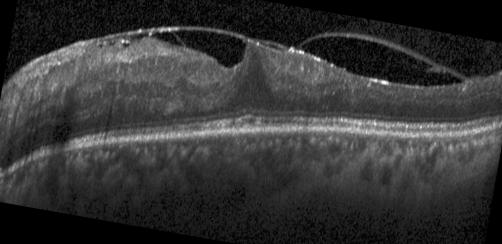intraretinal_cyst: (174, 30, 245, 67), (131, 32, 183, 45), (52, 122, 71, 142), (57, 110, 66, 118), (7, 158, 12, 164), (9, 150, 12, 153)
subretinal_fluid: (230, 53, 275, 110)
vitreomacular_traction: (297, 31, 469, 80), (255, 38, 287, 49)
